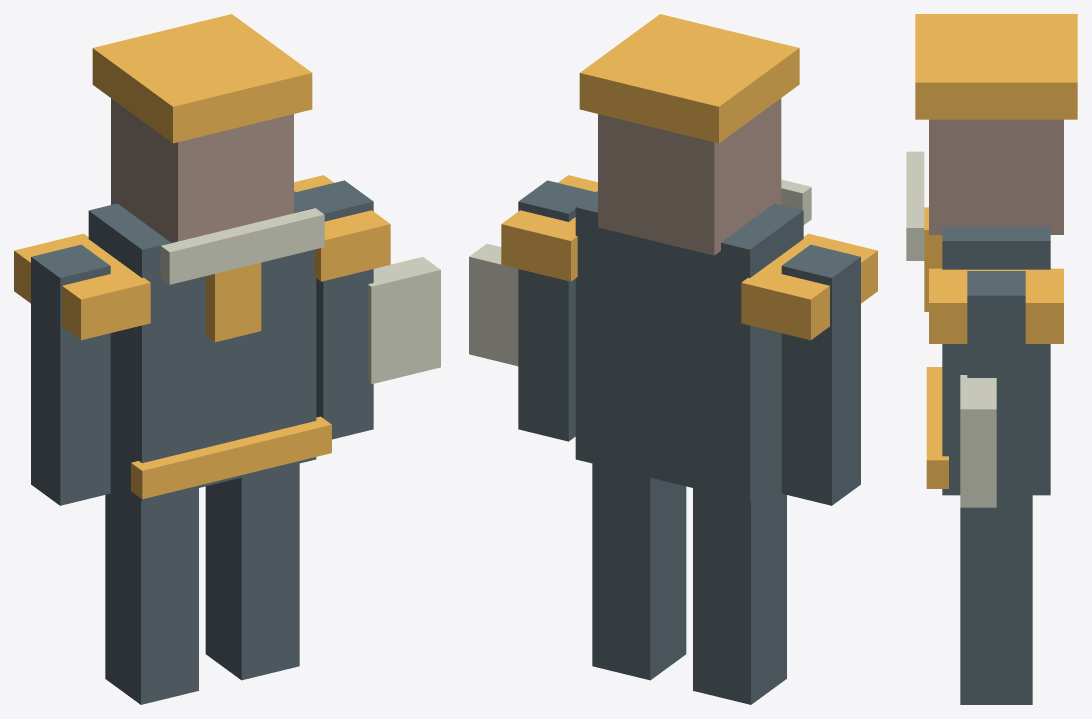
Rendered from 16_ilyra_gantryn_custodian_from_prototype.glb.
3 views of the same model, side by side, from view 1: azimuth 30°, elevation 25°; view 2: azimuth 150°, elevation 25°; view 3: azimuth 270°, elevation 25° (orthographic).
Visible parts, largest first — view 1: Ilyra Gantryn, Custodian from Prototype; view 2: Ilyra Gantryn, Custodian from Prototype; view 3: Ilyra Gantryn, Custodian from Prototype.
Part boxes in pixels (x1=…): Ilyra Gantryn, Custodian from Prototype: x1=14, y1=14, x2=440, y2=704; Ilyra Gantryn, Custodian from Prototype: x1=469, y1=14, x2=877, y2=704; Ilyra Gantryn, Custodian from Prototype: x1=906, y1=14, x2=1077, y2=704.
Size of the model in its own units: 0.917 by 1.42 by 0.3574.
